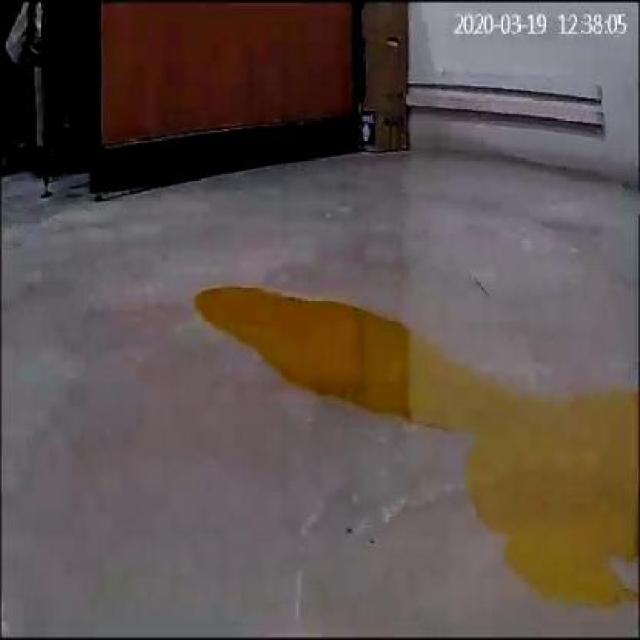spill: (190, 286, 635, 608)
